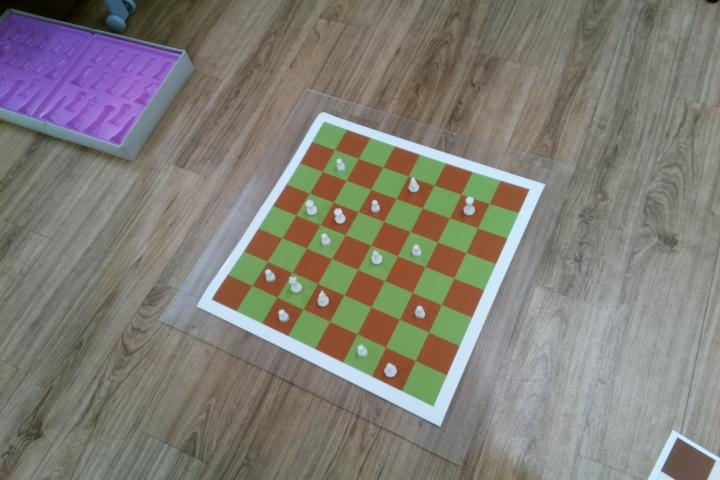chessboard-detect: (212, 121, 531, 408)
